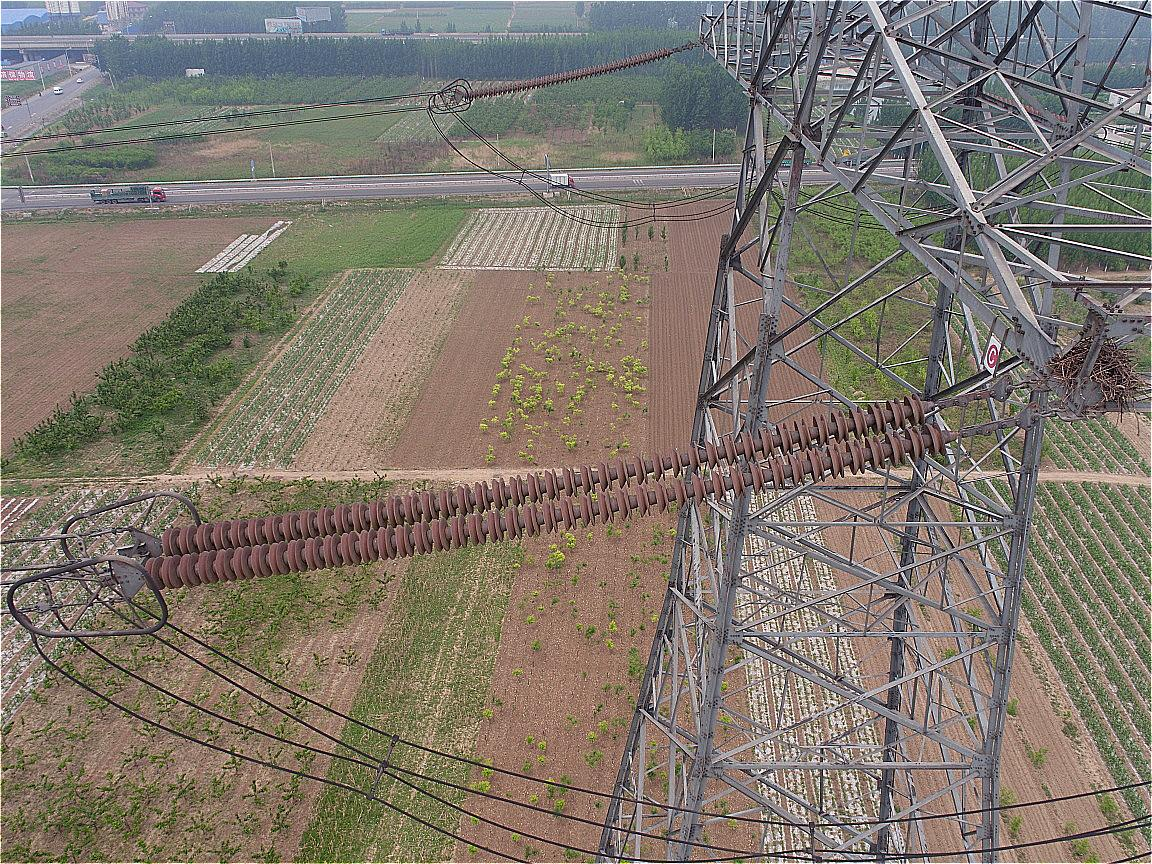insultor2: (145, 393, 946, 592), (463, 46, 673, 102)
